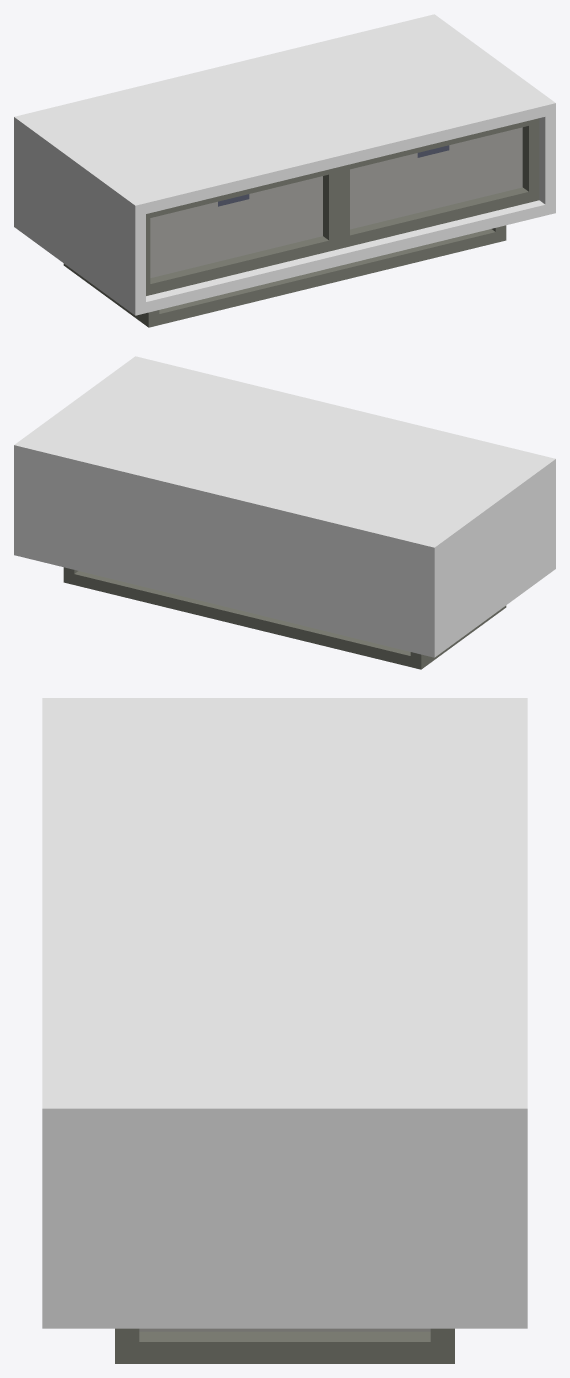
Rendered from sideboard.fbx.
The picture shows the model from 3 angles, top to bottom: view 1: azimuth 30°, elevation 25°; view 2: azimuth 150°, elevation 25°; view 3: azimuth 270°, elevation 25°; orthographic projection. The views are drawn at different scales.
Parts seen in each view (by area): view 1: sideboard; view 2: sideboard; view 3: sideboard.
Boxes of the visible parts, x1,y1,x2,y2 form: sideboard: (14,14,555,327); sideboard: (14,356,555,669); sideboard: (42,698,527,1363).
Bounding box in the file's own units: 250 × 81.25 × 125.
